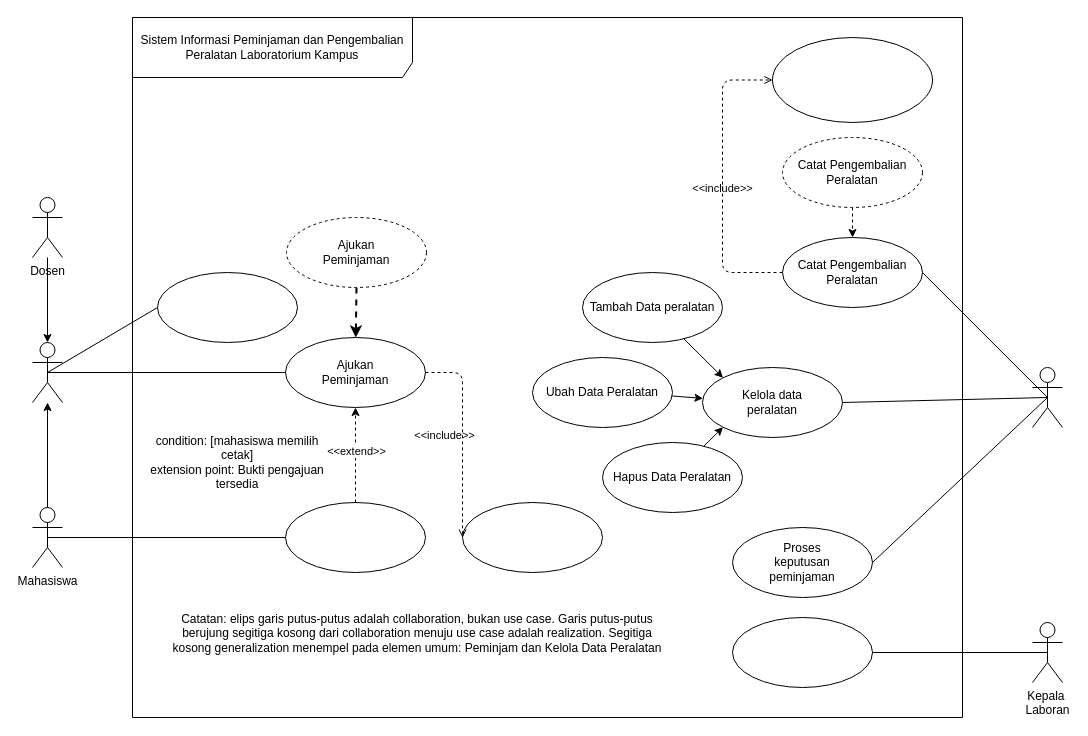
Image size: 1088x736. Some labels were removed from this diagram. Each missing label, with the box of its shape:
Cetak bukti Pengajuan: (284, 502, 426, 572)
Lihat ketersediaan peralatan: (156, 272, 298, 342)
Lihat laporan peminjaman: (732, 616, 872, 688)
Peminjam: (32, 342, 62, 402)
Periksa Ketersediaan: (462, 502, 602, 572)
Periksa Kondisi Peralatan: (772, 36, 932, 122)
Petugas Laboran: (1032, 366, 1062, 428)
